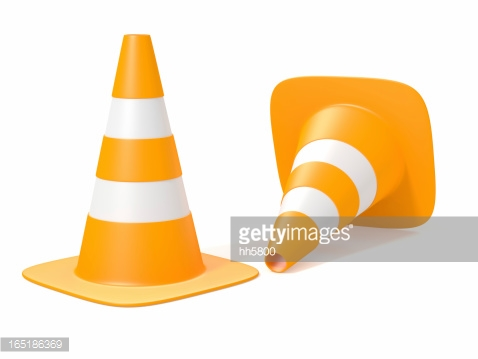trafficcone: (21, 34, 259, 308), (263, 77, 435, 275)
